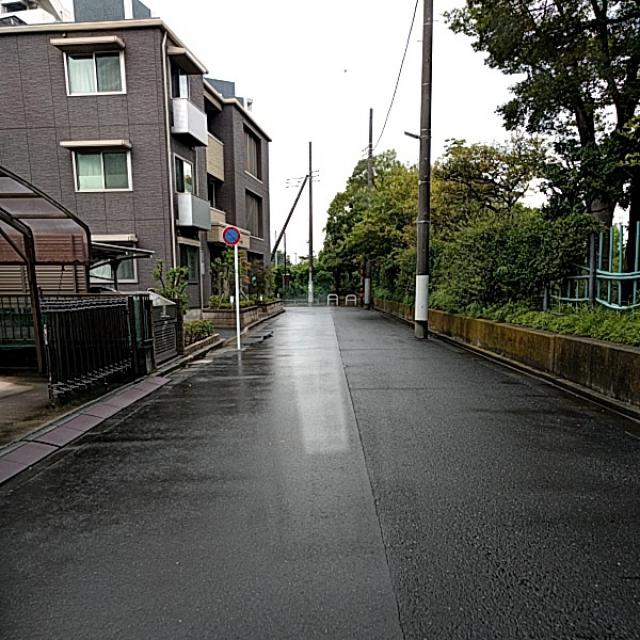pothole: (362, 516, 409, 598)
